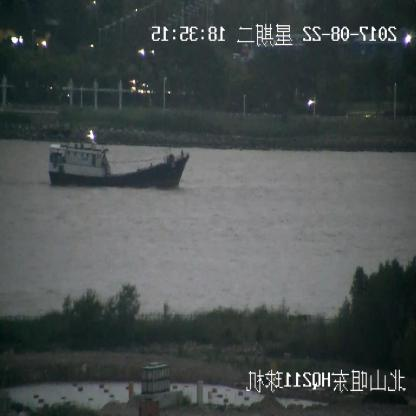Fishing Boat: (49, 134, 190, 190)
